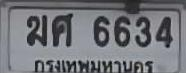3: (134, 16, 150, 46)
4: (155, 15, 172, 47)
6: (113, 15, 129, 46), (93, 15, 109, 46)
A06: (25, 14, 46, 45)
A38: (51, 12, 72, 46)
BKK: (30, 57, 158, 73)
